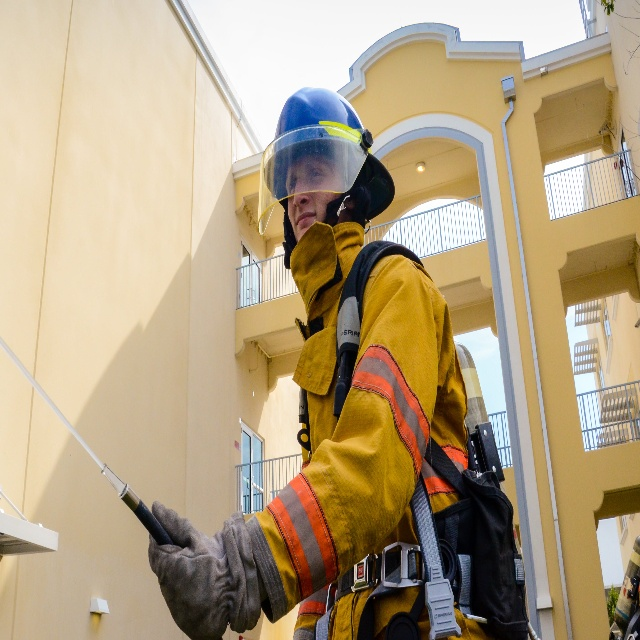Guantes: (147, 499, 261, 640)
